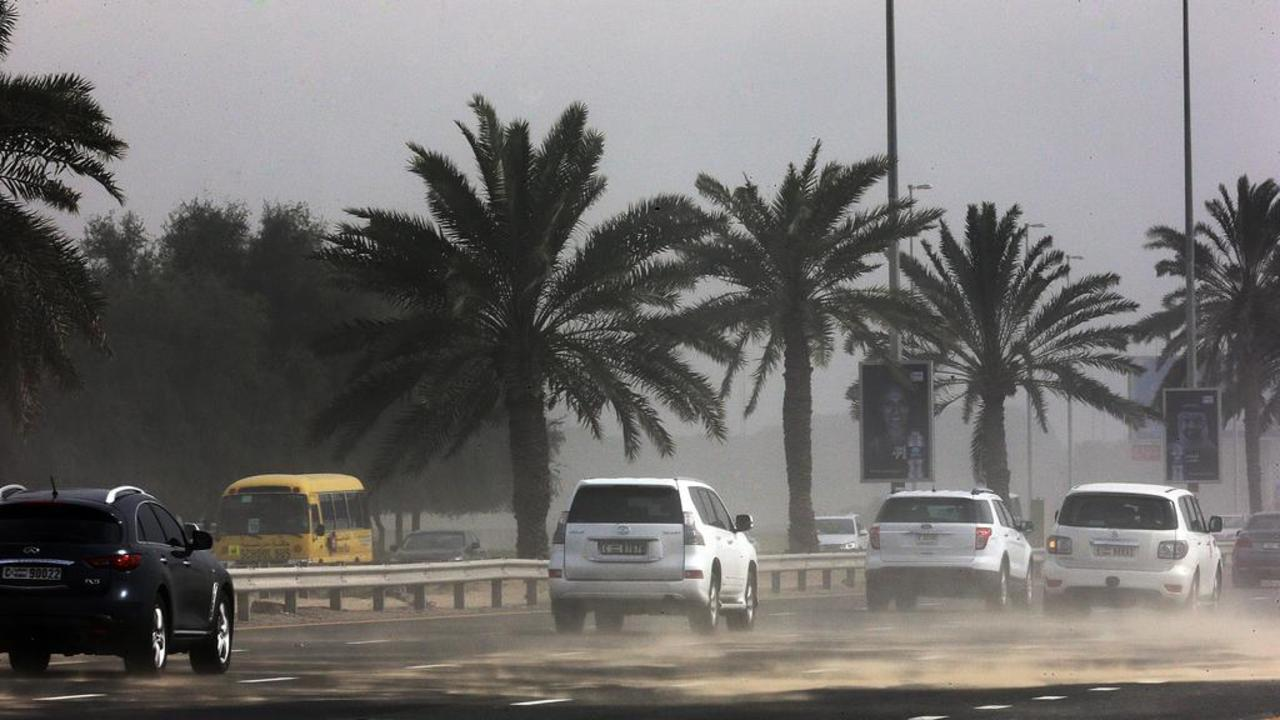bus: (214, 473, 372, 560)
car: (0, 487, 245, 676), (543, 474, 762, 634), (1040, 479, 1226, 610), (861, 488, 1036, 609), (1225, 509, 1279, 587), (390, 529, 480, 561), (814, 514, 865, 551)
